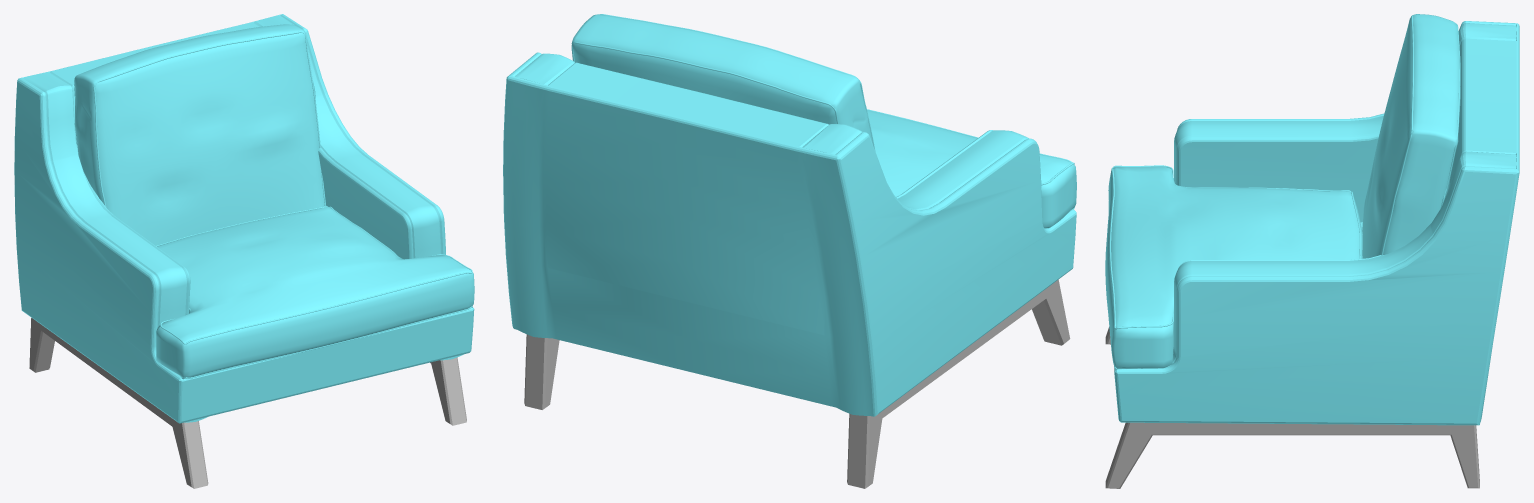
The model's file is chair.glb.
3 views of the same model, side by side, from view 1: azimuth 30°, elevation 25°; view 2: azimuth 150°, elevation 25°; view 3: azimuth 270°, elevation 25° (orthographic). The views are drawn at different scales.
Visible parts, largest first — view 1: buffer-0-mesh-0_1_1, buffer-0-mesh-0_0; view 2: buffer-0-mesh-0_1_1, buffer-0-mesh-0_0; view 3: buffer-0-mesh-0_1_1, buffer-0-mesh-0_0.
Part boxes in pixels (x1,y1,x2,y2): buffer-0-mesh-0_1_1: [14, 14, 474, 423]; buffer-0-mesh-0_0: [29, 318, 466, 488]; buffer-0-mesh-0_1_1: [503, 14, 1076, 416]; buffer-0-mesh-0_0: [524, 279, 1070, 488]; buffer-0-mesh-0_1_1: [1105, 14, 1519, 425]; buffer-0-mesh-0_0: [1105, 327, 1479, 488].
Bounding box in the file's own units: 0.8178 × 0.8074 × 0.8617.
